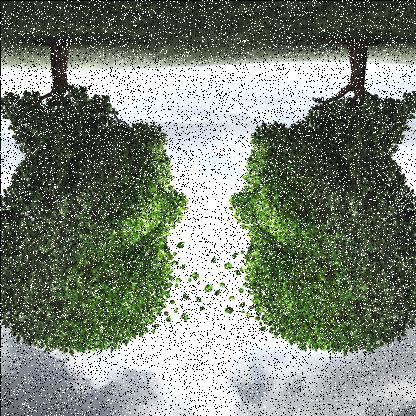Tree: (2, 36, 184, 356), (232, 39, 415, 354)
